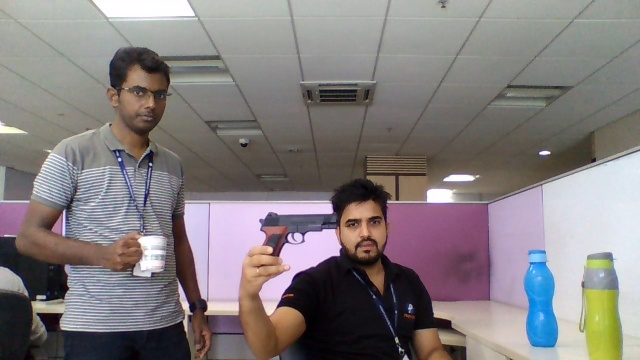gun: (254, 209, 336, 245)
